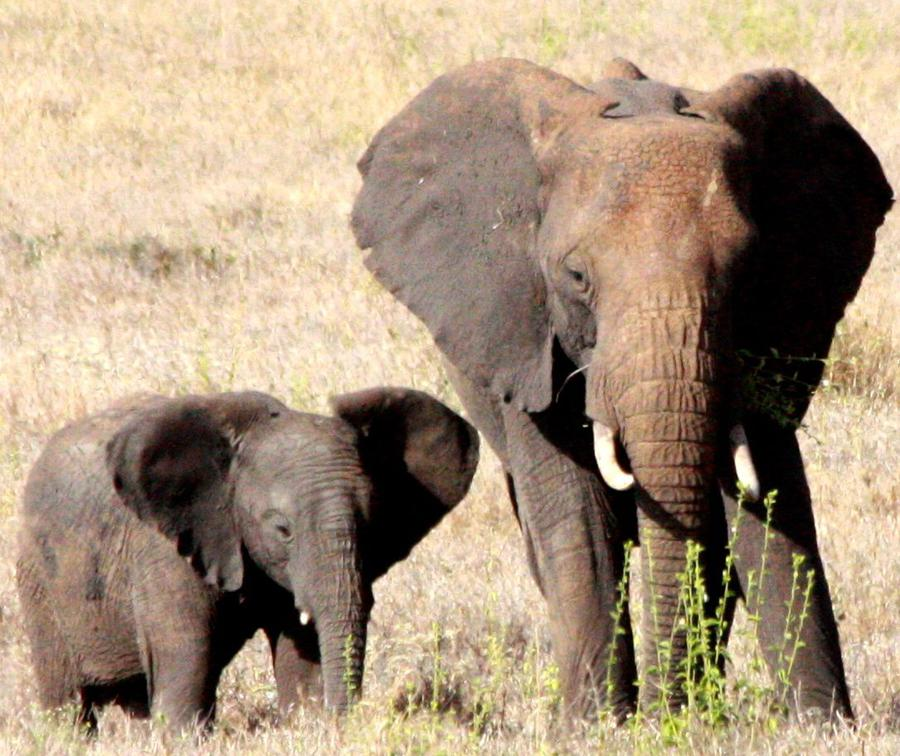elephant: (346, 57, 782, 435), (91, 377, 433, 619)
